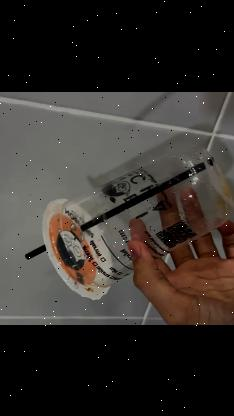Others: (42, 143, 234, 296)
